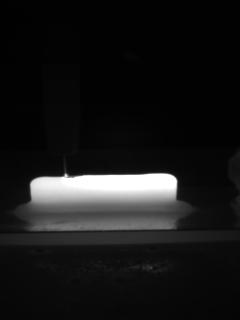tip_wire_left: (49, 150, 67, 177)
tip_wire_right: (63, 149, 80, 177)
